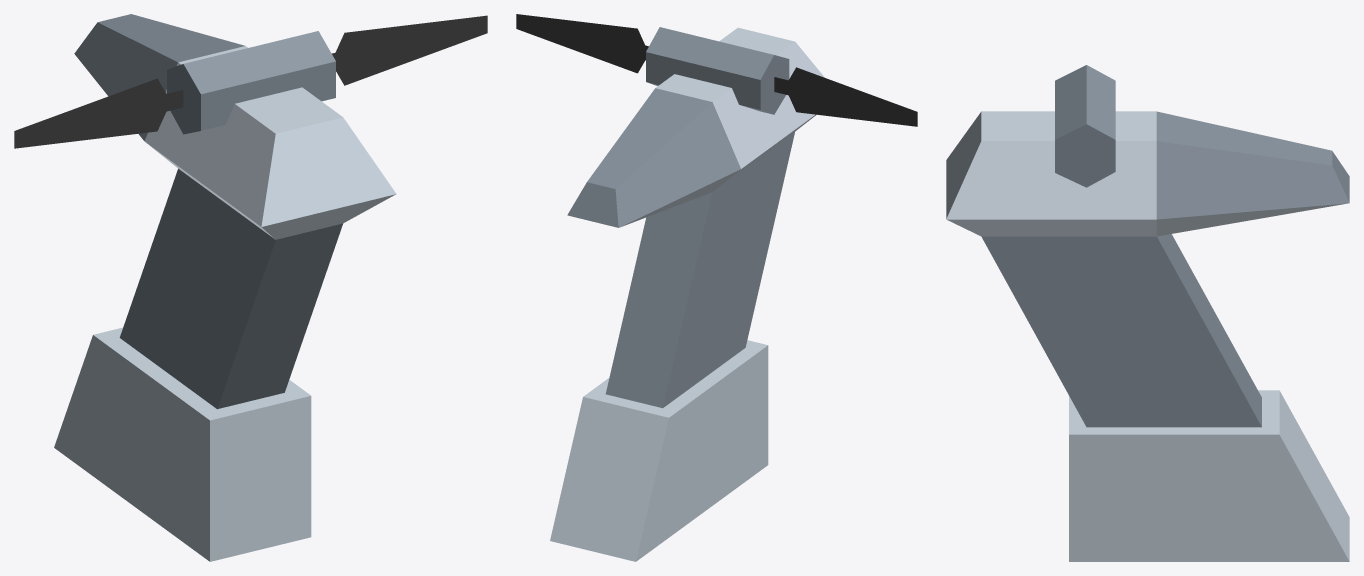
Rendered from Pit.FBX.
The picture shows the model from 3 angles, left to right: view 1: azimuth 30°, elevation 25°; view 2: azimuth 150°, elevation 25°; view 3: azimuth 270°, elevation 25°; orthographic projection. The views are drawn at different scales.
Parts seen in each view (by area): view 1: VIFS001, VIFS003, VIFS002; view 2: VIFS003, VIFS001, VIFS002; view 3: VIFS001, VIFS003.
Boxes of the visible parts, x1=… form: VIFS001: x1=54, y1=46, x2=396, y2=561; VIFS003: x1=74, y1=14, x2=343, y2=409; VIFS002: x1=14, y1=15, x2=487, y2=148; VIFS003: x1=567, y1=27, x2=794, y2=408; VIFS001: x1=550, y1=27, x2=824, y2=561; VIFS002: x1=516, y1=14, x2=917, y2=126; VIFS001: x1=946, y1=111, x2=1349, y2=561; VIFS003: x1=981, y1=65, x2=1349, y2=427.
Bounding box in the file's own units: 0.42 × 0.42 × 0.345.
